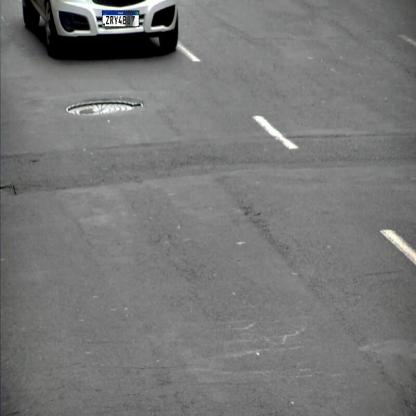PlacaM: (102, 10, 139, 27)
